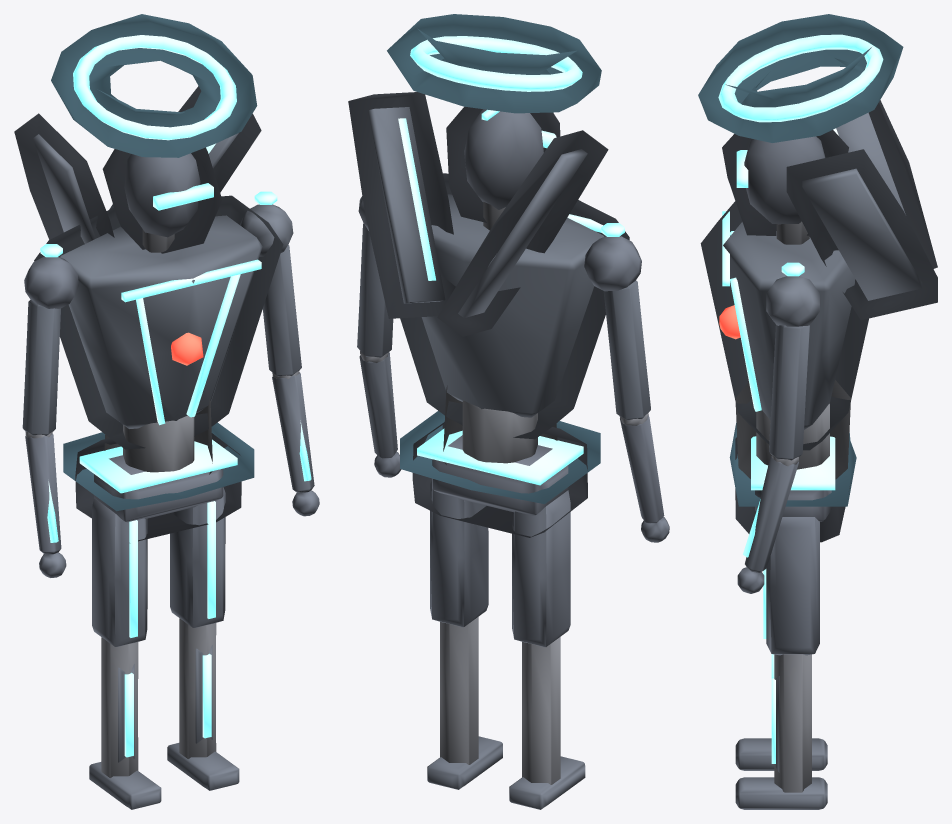
Rendered from sentinel.glb.
3 views of the same model, side by side, from view 1: azimuth 30°, elevation 25°; view 2: azimuth 150°, elevation 25°; view 3: azimuth 270°, elevation 25° (orthographic). The views are drawn at different scales.
Parts seen in each view (by area): view 1: M_Body, M_Body_Outline, M_LegB_R, M_LegA_L; view 2: M_Body, M_Body_Outline, M_LegB_R, M_LegA_L; view 3: M_Body, M_Body_Outline, M_LegA_L, M_LegB_R.
Boxes of the visible parts, bbox=[...] form: M_Body: bbox=[22, 35, 319, 577]; M_Body_Outline: bbox=[14, 14, 283, 541]; M_LegB_R: bbox=[89, 498, 161, 809]; M_LegA_L: bbox=[167, 487, 239, 790]; M_Body: bbox=[357, 36, 669, 542]; M_Body_Outline: bbox=[348, 14, 629, 537]; M_LegB_R: bbox=[509, 490, 585, 809]; M_LegA_L: bbox=[427, 479, 502, 789]; M_Body: bbox=[718, 34, 922, 593]; M_Body_Outline: bbox=[698, 14, 937, 542]; M_LegA_L: bbox=[735, 517, 827, 809]; M_LegB_R: bbox=[735, 654, 827, 770].
Bounding box in the file's own units: 0.8536 × 2.15 × 0.6251.
